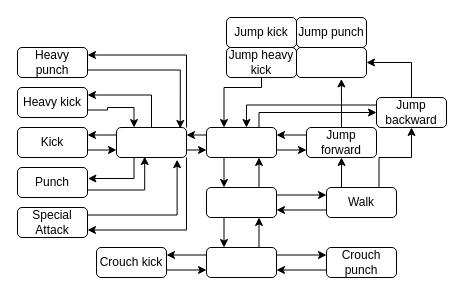
This 464x296 diagram has some shape labels left out. Here are the shapes that lost their labels. From the top down, the box of each, then its label:
(296, 46, 366, 78): Jump heavy punch
(116, 126, 186, 158): Attacks
(206, 126, 276, 158): Jump
(206, 186, 276, 218): Idle
(206, 246, 276, 278): Crouch
